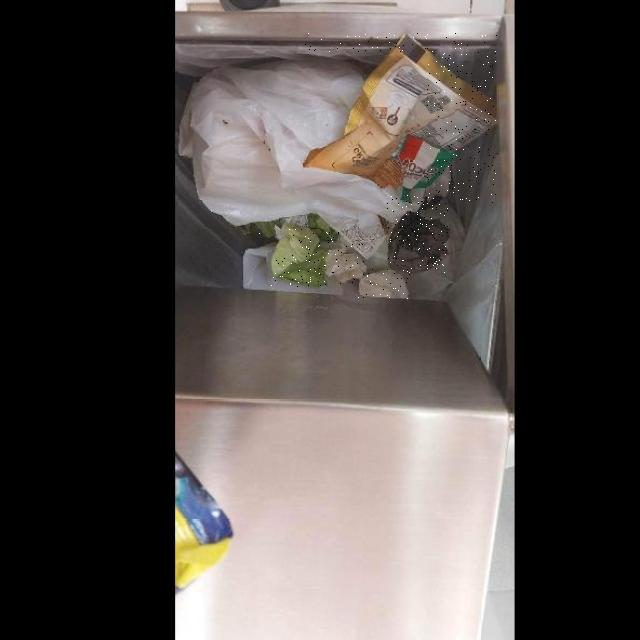biowaste: (272, 212, 339, 287), (241, 217, 286, 238)
paper: (357, 265, 410, 299), (325, 243, 367, 283)
plastic: (179, 52, 427, 229), (388, 195, 450, 273)
wrapper: (303, 32, 498, 202)
